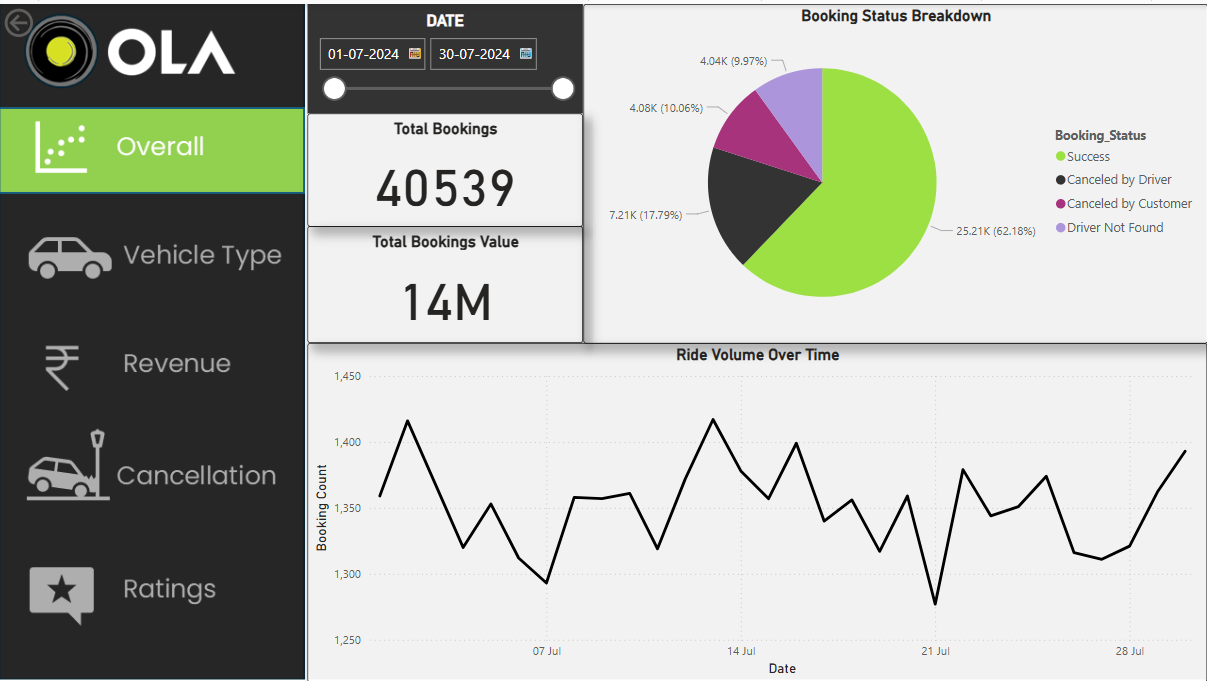

This screenshot's page, from the dashboard's own definition file:
{"tool":"powerbi","page":{"name":"Overall","canvas":[1280,720],"ordinal":0},"visuals":[{"type":"actionButton","box":[0,213,326.1,92.8],"z":0},{"type":"actionButton","box":[0,336.2,326.1,92.8],"z":1000},{"type":"actionButton","box":[0,455.1,326.1,92.8],"z":2000},{"type":"actionButton","box":[0,573.9,326.1,92.8],"z":3000},{"type":"lineChart","title":"Ride Volume Over Time","fields":{"Y":["CountNonNull(Bookings-40000-Rows.Booking_ID)"],"Category":["Bookings-40000-Rows.Date"]},"box":[326,360,954,360],"z":4000},{"type":"pieChart","title":"Booking Status Breakdown","fields":{"Category":["Bookings-40000-Rows.Booking_Status"],"Y":["CountNonNull(Bookings-40000-Rows.Booking_Status)"]},"box":[618,0,662,360],"z":5000},{"type":"slicer","title":"DATE","fields":{"Values":["Bookings-40000-Rows.Date"]},"box":[326,0,292,116],"z":6000},{"type":"actionButton","box":[0,0,100,40],"z":7000},{"type":"card","title":"Total Bookings","fields":{"Values":["CountNonNull(Bookings-40000-Rows.Booking_ID)"]},"box":[326,116,292,120],"z":8000},{"type":"card","title":"Total Bookings Value","fields":{"Values":["Sum(Bookings-40000-Rows.Booking_Value)"]},"box":[326,236,292,124],"z":9000}]}

Visuals, with their boxes in screenshot pixels (x1, y1, x2, y2), scaled from the page's 1280x720 canvas onto the 1207x681 screenshot:
actionButton: bbox=[0, 201, 308, 289]
actionButton: bbox=[0, 318, 308, 406]
actionButton: bbox=[0, 430, 308, 518]
actionButton: bbox=[0, 543, 308, 631]
"Ride Volume Over Time" lineChart: bbox=[307, 340, 1206, 680]
"Booking Status Breakdown" pieChart: bbox=[583, 0, 1206, 340]
"DATE" slicer: bbox=[307, 0, 583, 110]
actionButton: bbox=[0, 0, 94, 38]
"Total Bookings" card: bbox=[307, 110, 583, 223]
"Total Bookings Value" card: bbox=[307, 223, 583, 340]
